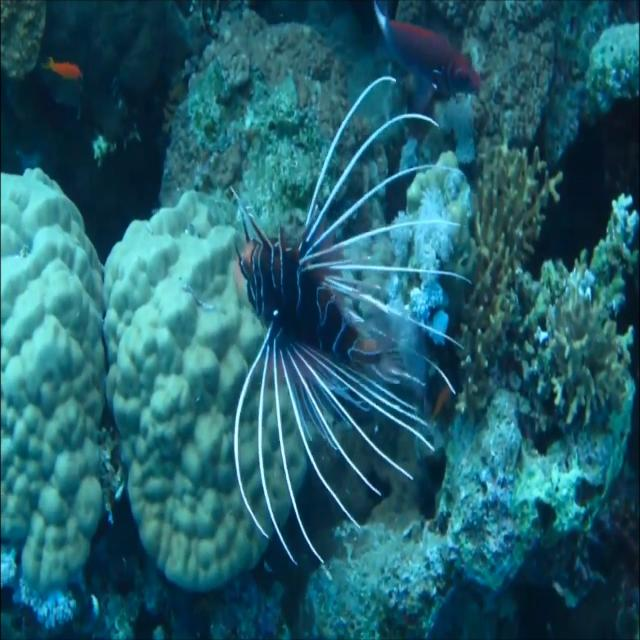Lionfish -Endangered- -Poisonous-: (231, 75, 469, 569)
